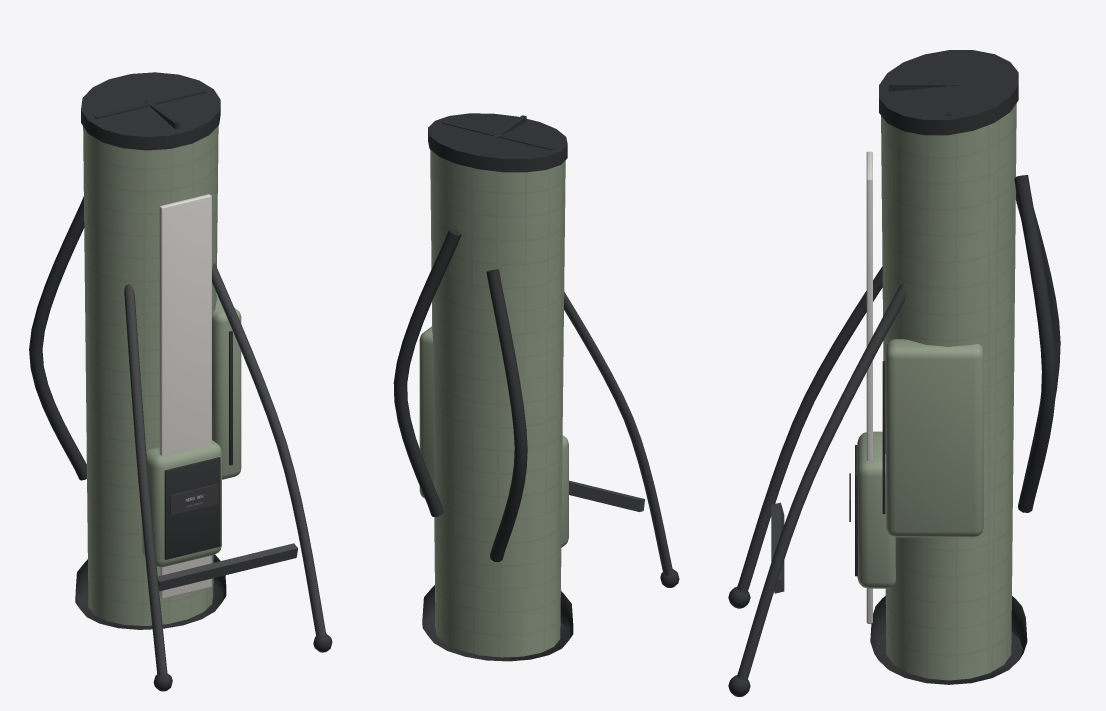
File: pf_bag_stand.glb
The picture shows the model from 3 angles, left to right: view 1: azimuth 30°, elevation 25°; view 2: azimuth 150°, elevation 25°; view 3: azimuth 270°, elevation 25°; orthographic projection. The views are drawn at different scales.
Visible parts, largest first — view 1: pf_bag_stand_body.001; view 2: pf_bag_stand_body.001; view 3: pf_bag_stand_body.001.
Part boxes in pixels (x1,y1,x2,y2): pf_bag_stand_body.001: (29, 72, 332, 691); pf_bag_stand_body.001: (393, 113, 679, 661); pf_bag_stand_body.001: (728, 50, 1060, 696).
Size of the model in its own units: 0.3304 by 0.944 by 0.55.
Materials: 7 (3 with a texture image).
